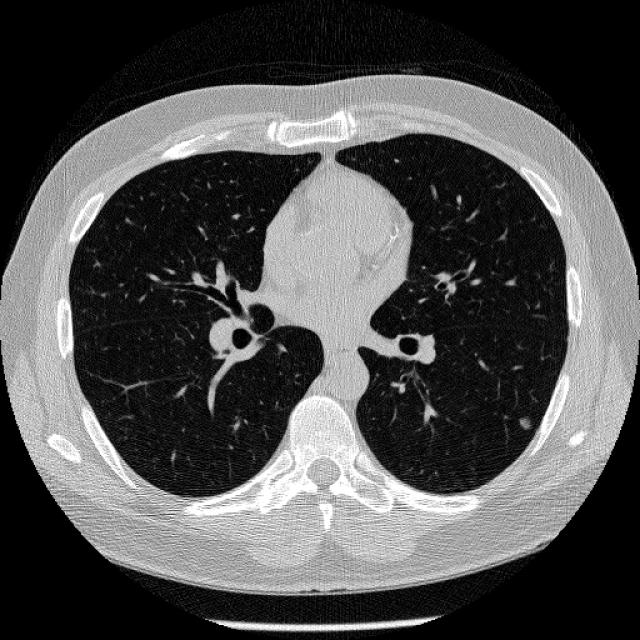nodule: (512, 410, 536, 435)
